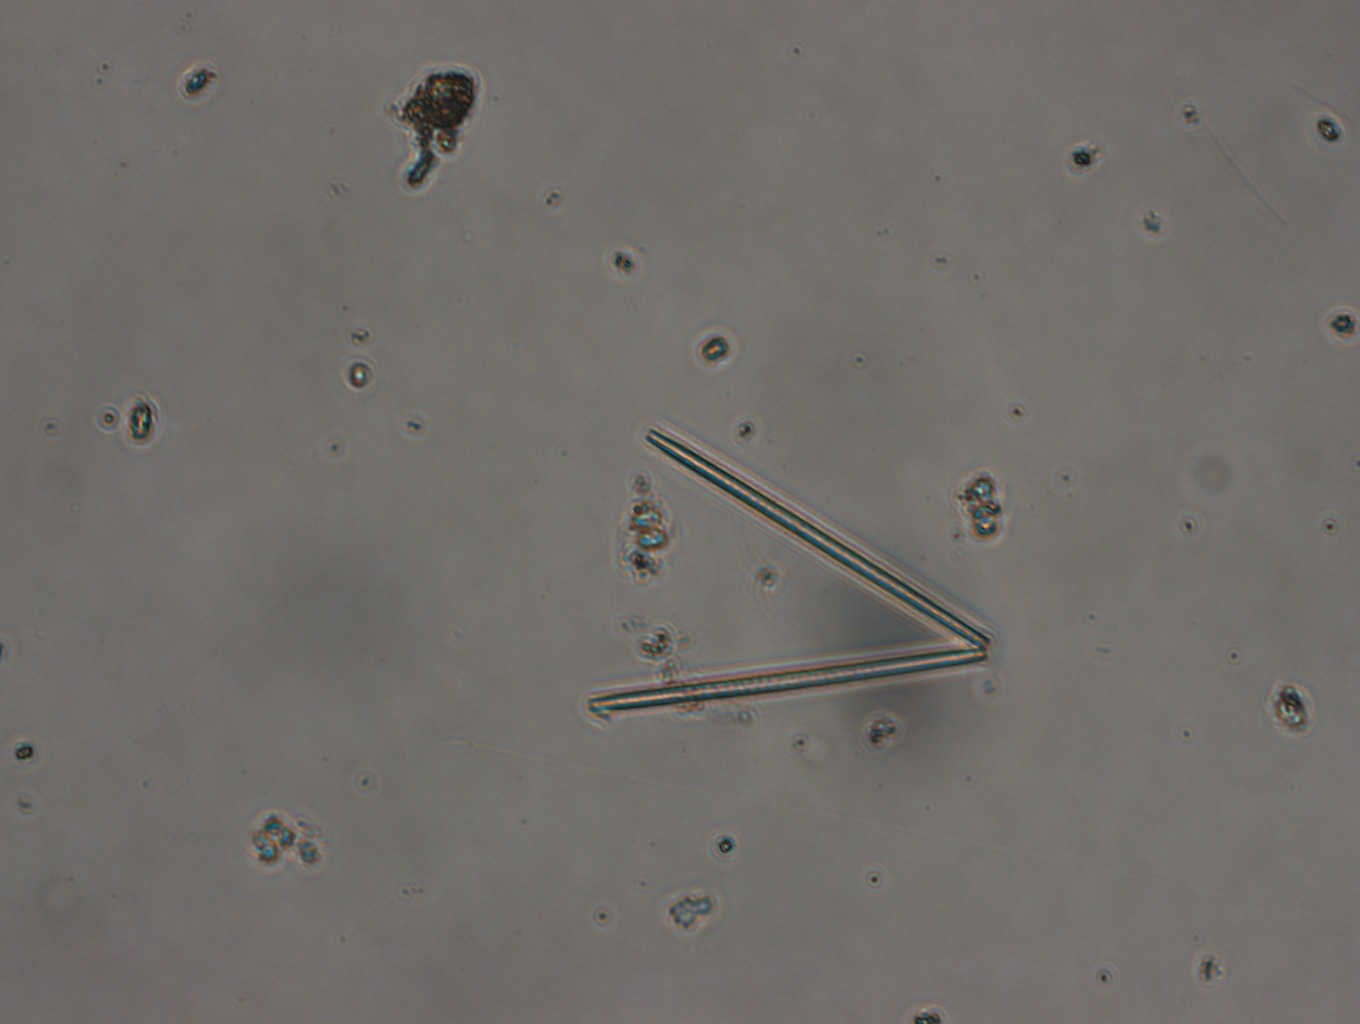thalassionema frauenfeldii: (574, 415, 1002, 731)
